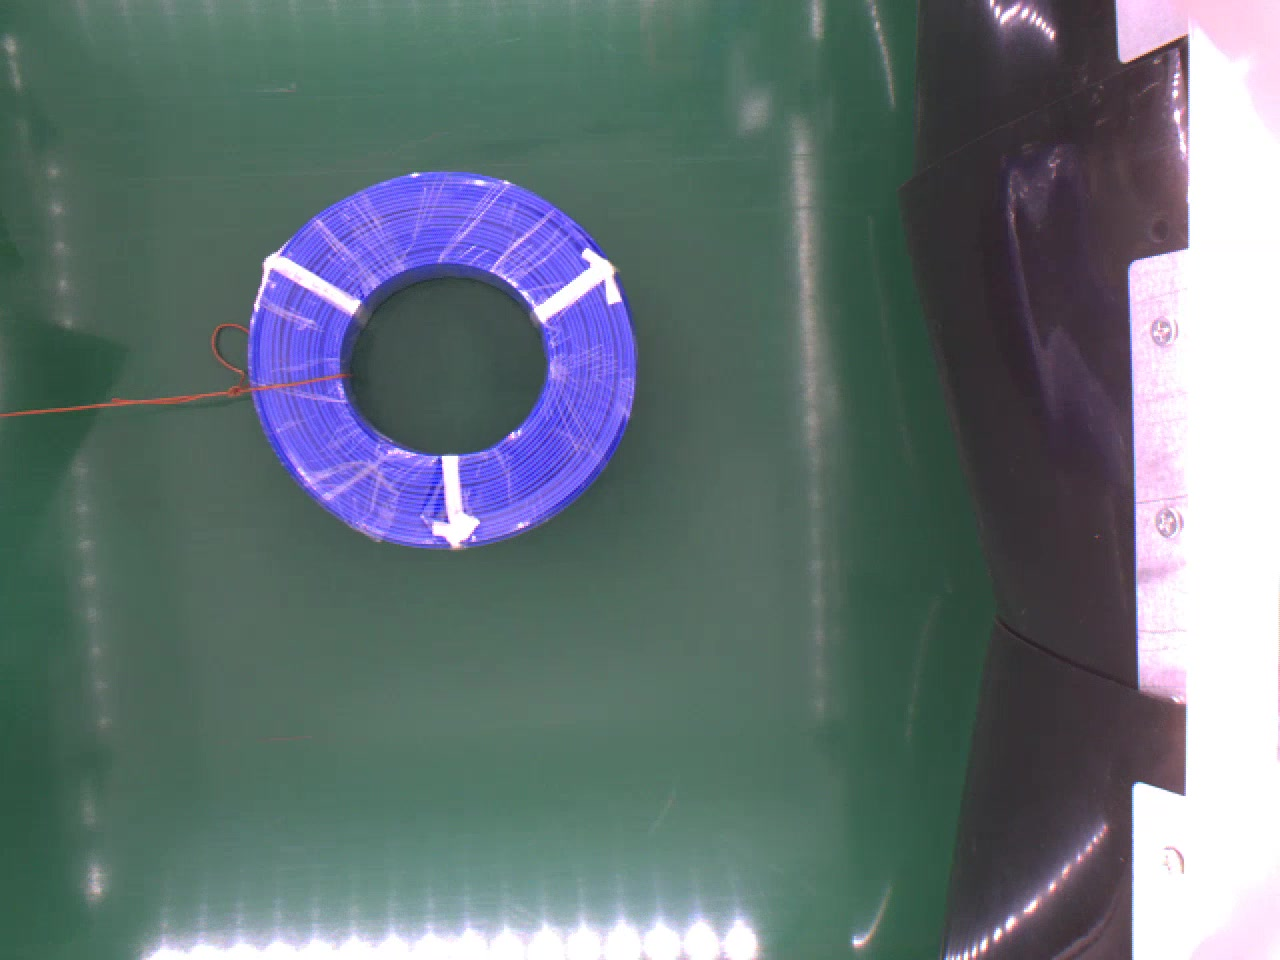blue: (243, 161, 638, 541)
